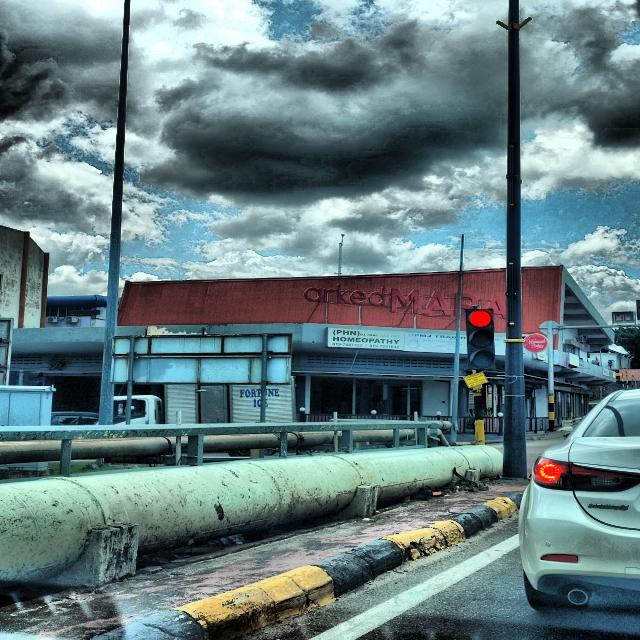red: (466, 308, 494, 371)
